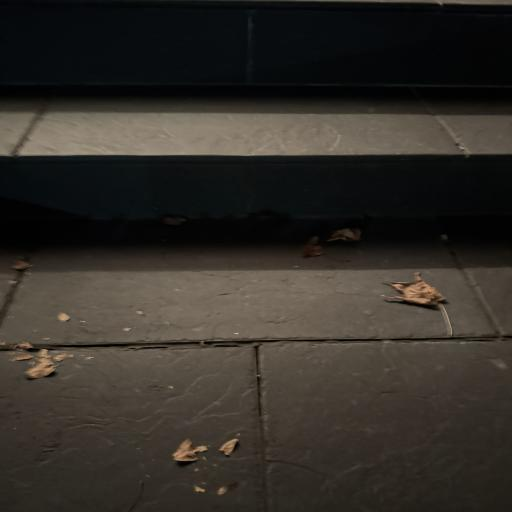debris: (381, 273, 453, 336), (12, 342, 74, 380), (172, 439, 208, 463), (301, 236, 324, 258), (327, 228, 361, 242), (219, 437, 239, 456), (11, 260, 33, 272), (164, 218, 185, 226), (57, 312, 70, 323)
stairs: (0, 0, 512, 346)
